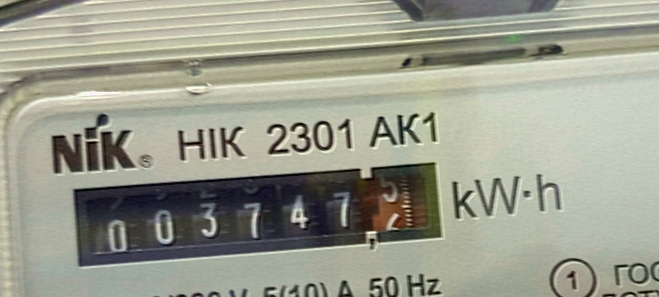0: (152, 204, 176, 244), (106, 215, 131, 252)
3: (198, 199, 220, 237)
4: (287, 189, 311, 231)
5: (379, 172, 401, 203)
6: (383, 208, 403, 230)
7: (330, 186, 356, 227), (242, 198, 265, 239)
screen: (63, 143, 459, 284)
